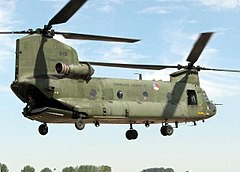chinook: (6, 3, 233, 138)
